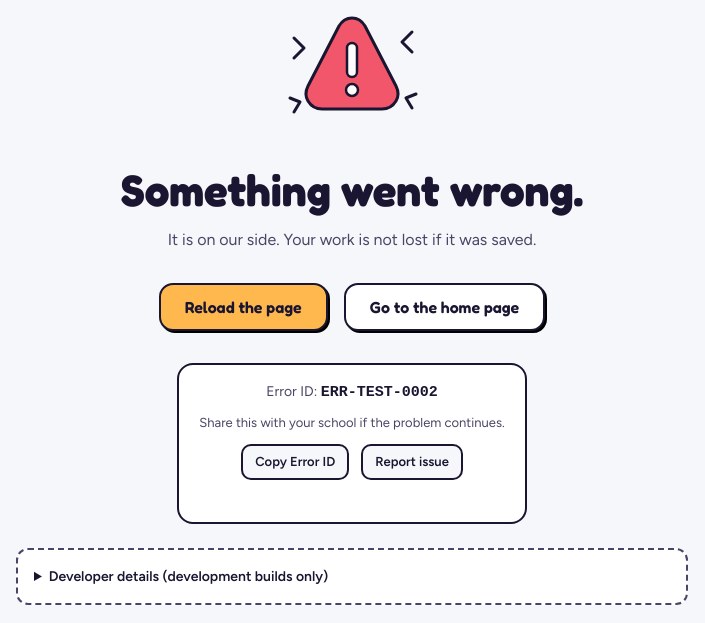
it: PUB-13: ErrorBoundary and ErrorFallback (SH-11) › copies the Error ID, and says so when the clipboard is blocked
What coordinates should you click on to do the following:
click the button "Copy Error ID"
I would click on:
 (295, 462)
Its box is [241,444,349,480].
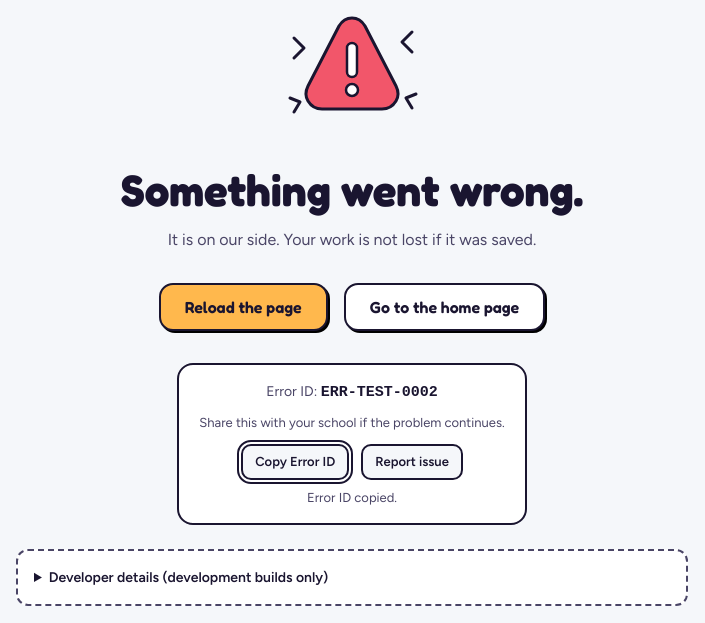
Check: the text "Error ID copied." is shown, box [307,488,397,507]
What coordinates should you click on to do the following:
click the button "Copy Error ID"
I would click on:
 (295, 462)
Its box is [241,444,349,480].
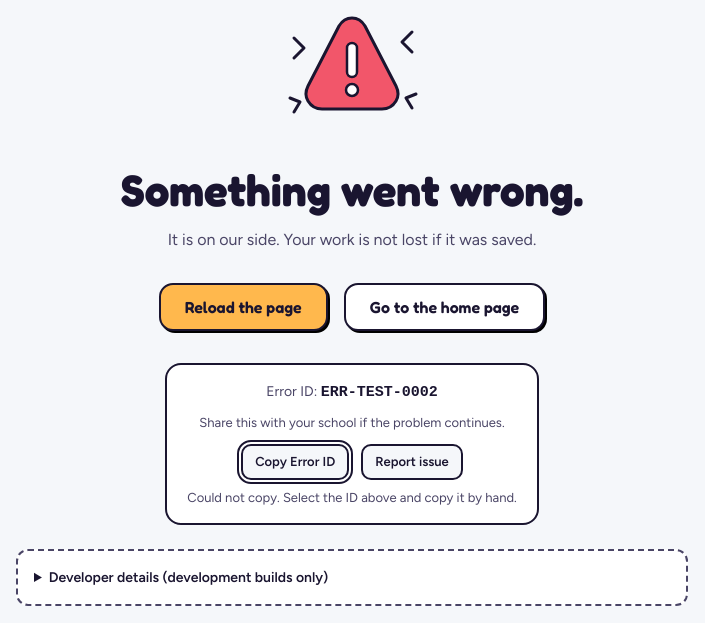
Check: the text "Could not copy. Select the ID above and copy it by hand." is shown, box [187,488,517,507]
